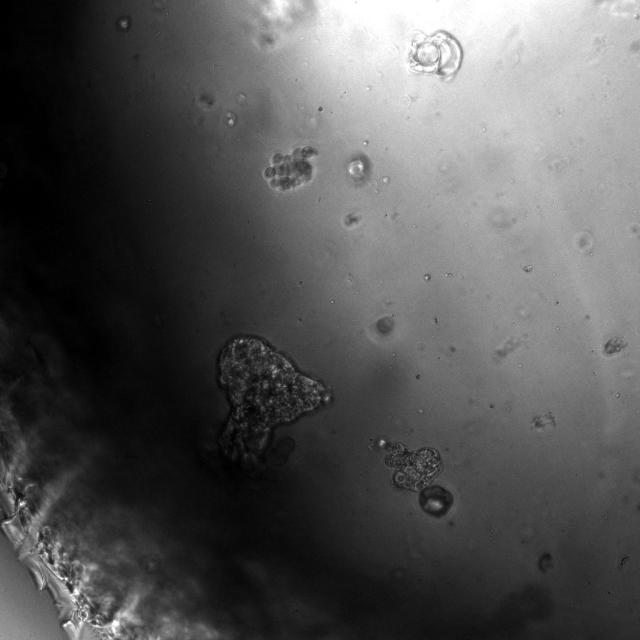organoid: (218, 336, 330, 471), (384, 442, 442, 491), (407, 30, 462, 78), (264, 145, 314, 191), (419, 485, 453, 517), (603, 336, 626, 355), (376, 316, 394, 334)
